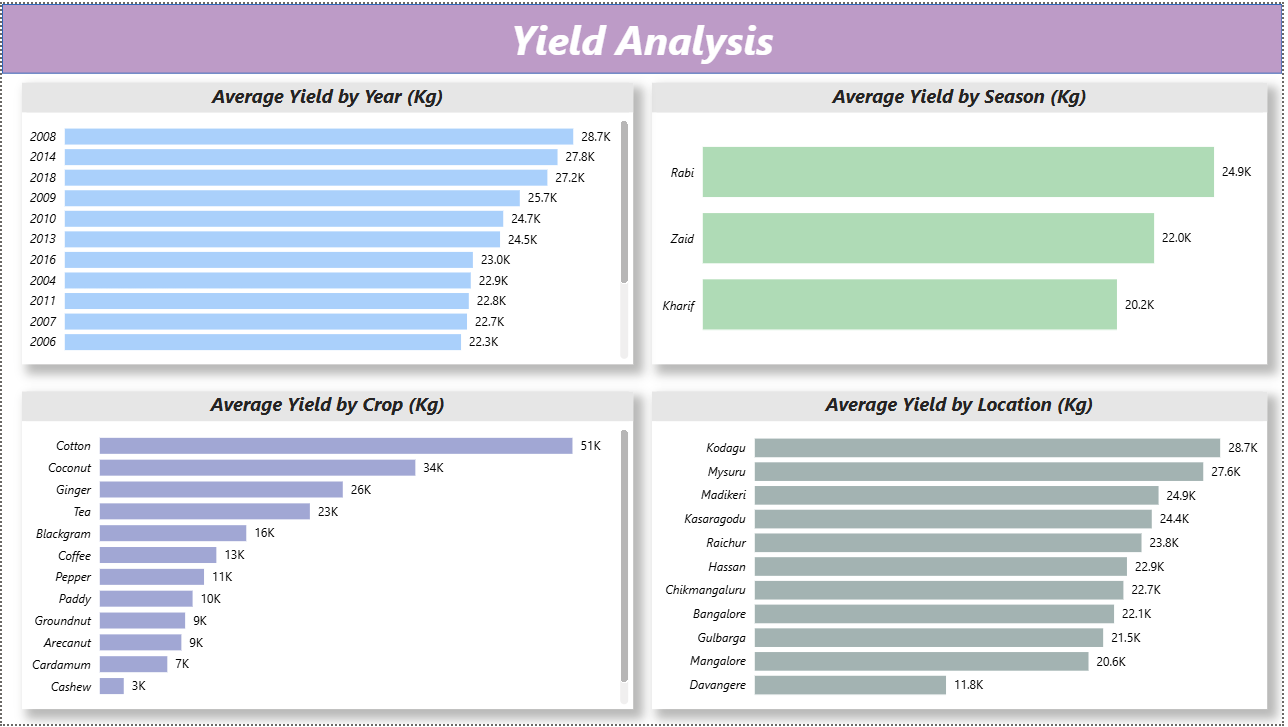

This screenshot's page, from the dashboard's own definition file:
{"tool":"powerbi","page":{"name":"Yield Analysis","canvas":[1280,720],"ordinal":3},"visuals":[{"type":"shape","box":[0,0,1280.3,69.7],"z":0},{"type":"barChart","title":"Average Yield by Crop","fields":{"Category":["AGRICULTURE.CROPS"],"Y":["Sum(AGRICULTURE.YEILDS)"]},"box":[19.6,387.6,611.4,317.9],"z":1000},{"type":"barChart","title":"Average Yield by Season","fields":{"Category":["AGRICULTURE.SEASON"],"Y":["Sum(AGRICULTURE.YEILDS)"]},"box":[650.5,78.3,615.1,281.3],"z":2000},{"type":"barChart","title":"Average Yield by Year","fields":{"Category":["AGRICULTURE.YEAR"],"Y":["Sum(AGRICULTURE.YEILDS)"]},"box":[19.6,78.3,611.4,281.3],"z":3000},{"type":"barChart","title":"Average Yield by Location","fields":{"Category":["AGRICULTURE.LOCATION"],"Y":["Sum(AGRICULTURE.YEILDS)"]},"box":[650.5,387.6,615.1,317.9],"z":4000}]}

Visuals, with their boxes in screenshot pixels (x1, y1, x2, y2), scaled from the page's 1280x720 canvas onto the 1288x727 screenshot:
shape: {"left": 0, "top": 0, "right": 1287, "bottom": 70}
"Average Yield by Crop" barChart: {"left": 20, "top": 391, "right": 635, "bottom": 712}
"Average Yield by Season" barChart: {"left": 655, "top": 79, "right": 1274, "bottom": 363}
"Average Yield by Year" barChart: {"left": 20, "top": 79, "right": 635, "bottom": 363}
"Average Yield by Location" barChart: {"left": 655, "top": 391, "right": 1274, "bottom": 712}
